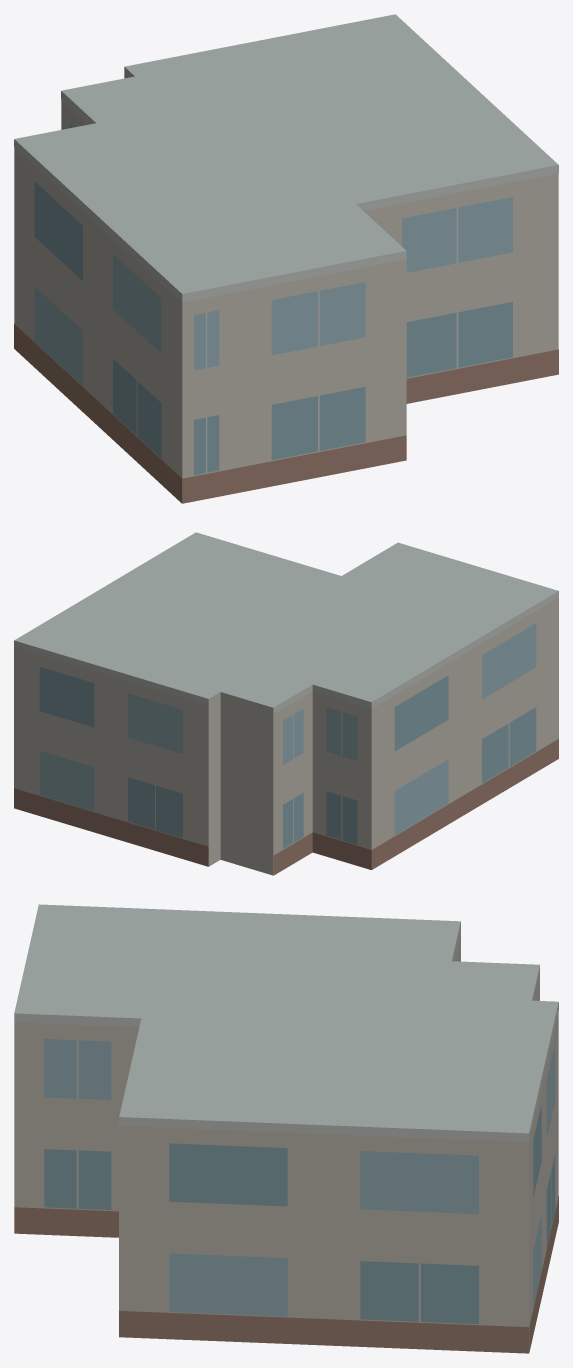
The model's file is survey-upis-32888076.glb.
3 renders of one model, top to bottom at view 1: azimuth 30°, elevation 25°; view 2: azimuth 150°, elevation 25°; view 3: azimuth 270°, elevation 25°, orthographic. The views are drawn at different scales.
Parts seen in each view (by area): view 1: survey-upis-32888076.tmp; view 2: survey-upis-32888076.tmp; view 3: survey-upis-32888076.tmp.
Boxes of the visible parts, <box> form: survey-upis-32888076.tmp: <box>14,14,558,503</box>; survey-upis-32888076.tmp: <box>14,532,558,875</box>; survey-upis-32888076.tmp: <box>14,904,558,1353</box>.
Bounding box in the file's own units: 13.62 × 6.1 × 13.69.
